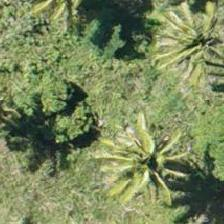coconut_tree: (106, 114, 196, 204), (159, 7, 223, 97)
